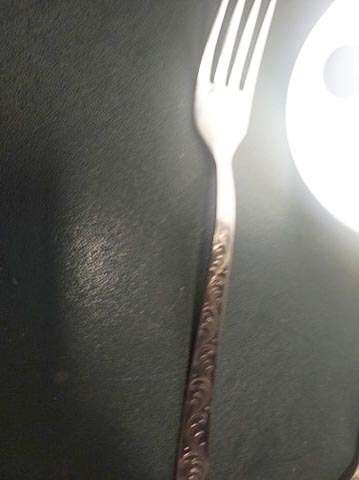Widelec: (190, 2, 277, 161)
